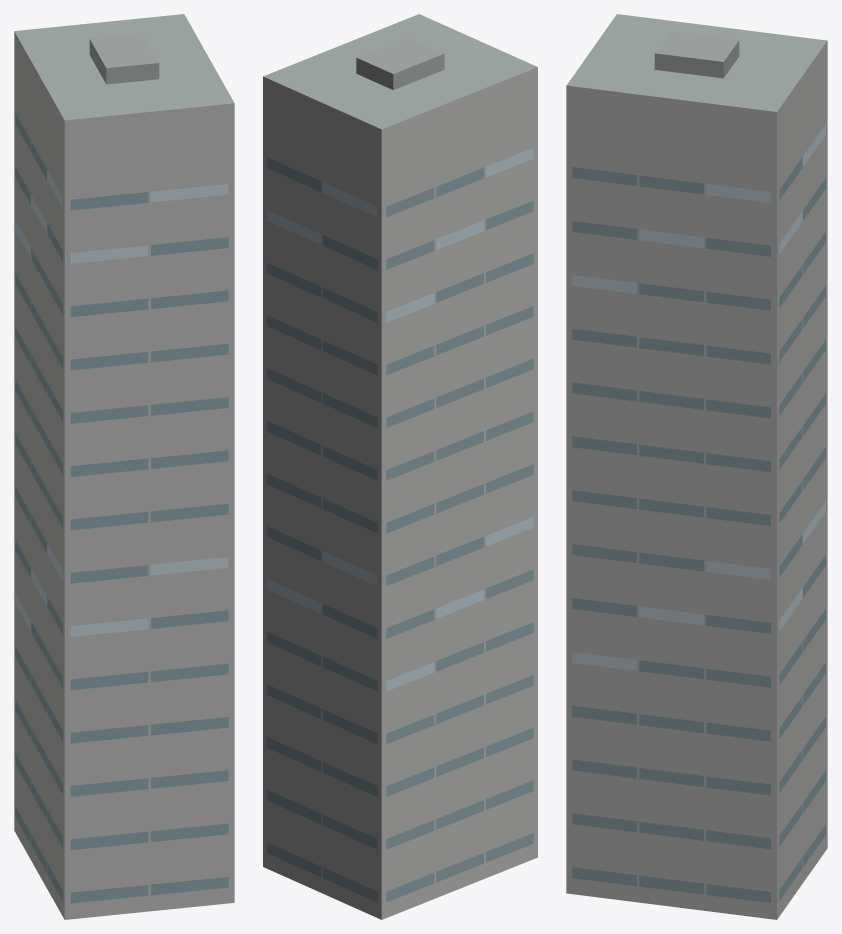
File: fallback-olympic-park-foreon-117.glb
3 renders of one model, left to right at view 1: azimuth 30°, elevation 25°; view 2: azimuth 150°, elevation 25°; view 3: azimuth 270°, elevation 25°, orthographic. The views are drawn at different scales.
Visible parts, largest first — view 1: fallback-olympic-park-foreon-117; view 2: fallback-olympic-park-foreon-117; view 3: fallback-olympic-park-foreon-117.
Boxes of the visible parts, x1,y1,x2,y2 form: fallback-olympic-park-foreon-117: (14, 14, 234, 919); fallback-olympic-park-foreon-117: (263, 14, 537, 919); fallback-olympic-park-foreon-117: (566, 14, 827, 919).
Bounding box in the file's own units: 30.61 × 120 × 34.43.
